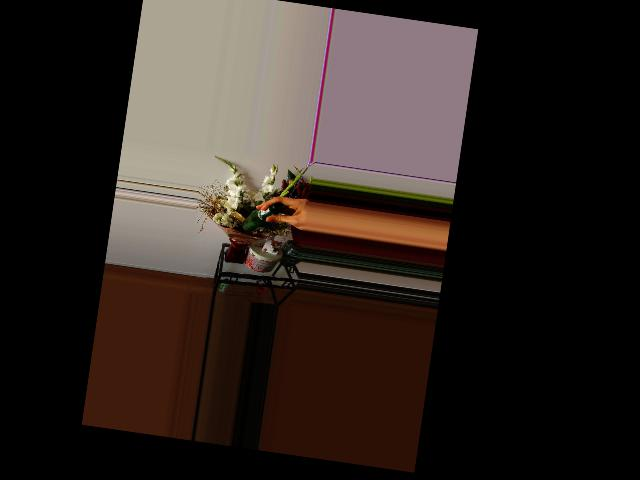beer: (241, 197, 284, 236)
